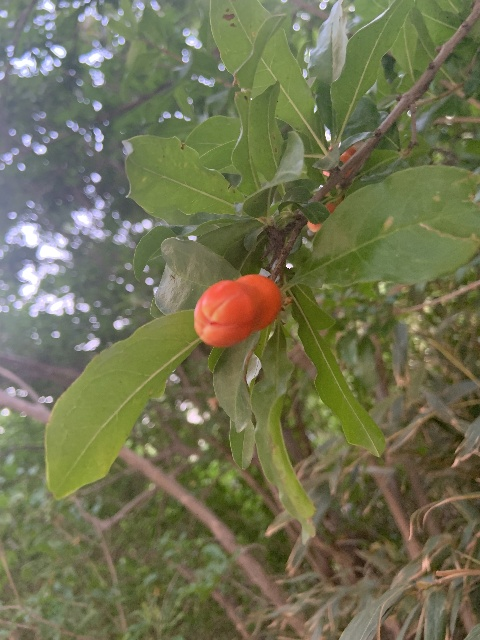bud: (194, 273, 281, 347)
